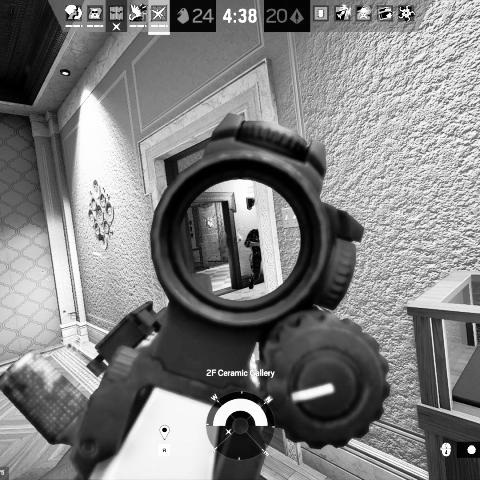Character: (243, 228, 266, 290)
Friend_label: (61, 312, 84, 327)
